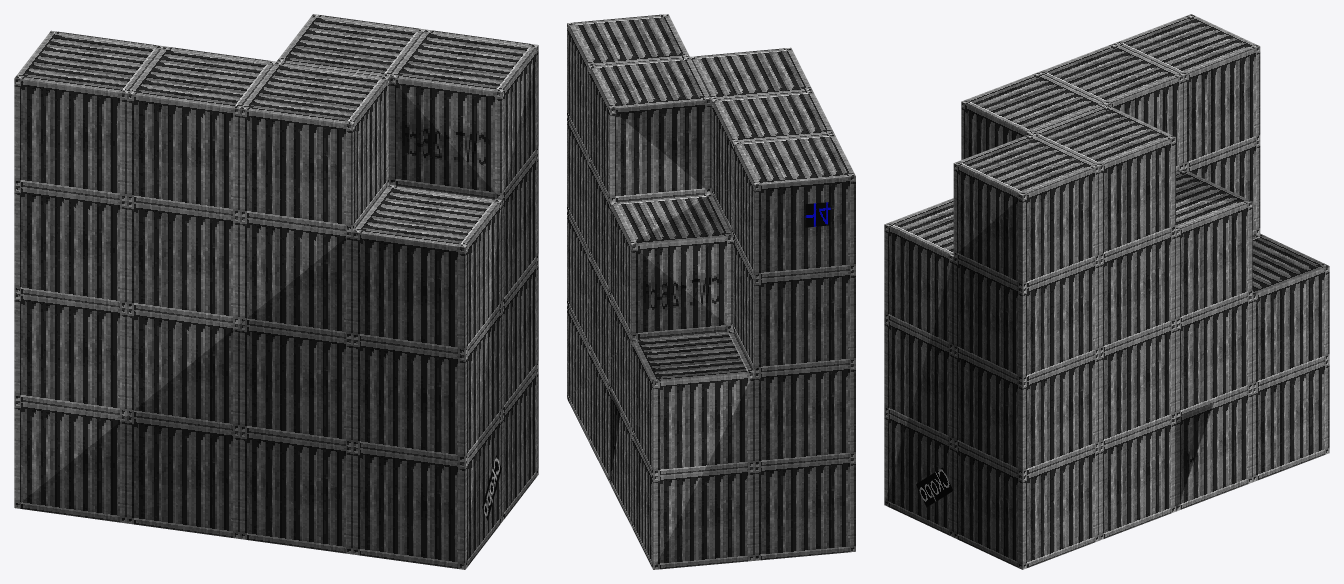
The model's file is metal_crate_stack.glb.
The picture shows the model from 3 angles, left to right: view 1: azimuth 30°, elevation 25°; view 2: azimuth 150°, elevation 25°; view 3: azimuth 270°, elevation 25°; orthographic projection. The views are drawn at different scales.
Parts seen in each view (by area): view 1: Object; view 2: Object; view 3: Object.
Part boxes in pixels (left/top/right/bottom): Object: left=14, top=14, right=538, bottom=569; Object: left=567, top=14, right=855, bottom=569; Object: left=884, top=14, right=1329, bottom=569.
Size of the model in its own units: 5.77 by 5.54 by 5.97.
8 materials, 8 textured.
